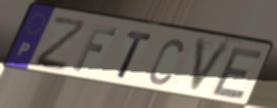C: (147, 36, 185, 87)
E: (209, 46, 267, 100)
F: (70, 24, 120, 74)
T: (115, 30, 155, 81)
V: (184, 36, 235, 98)
Z: (32, 15, 89, 73)
